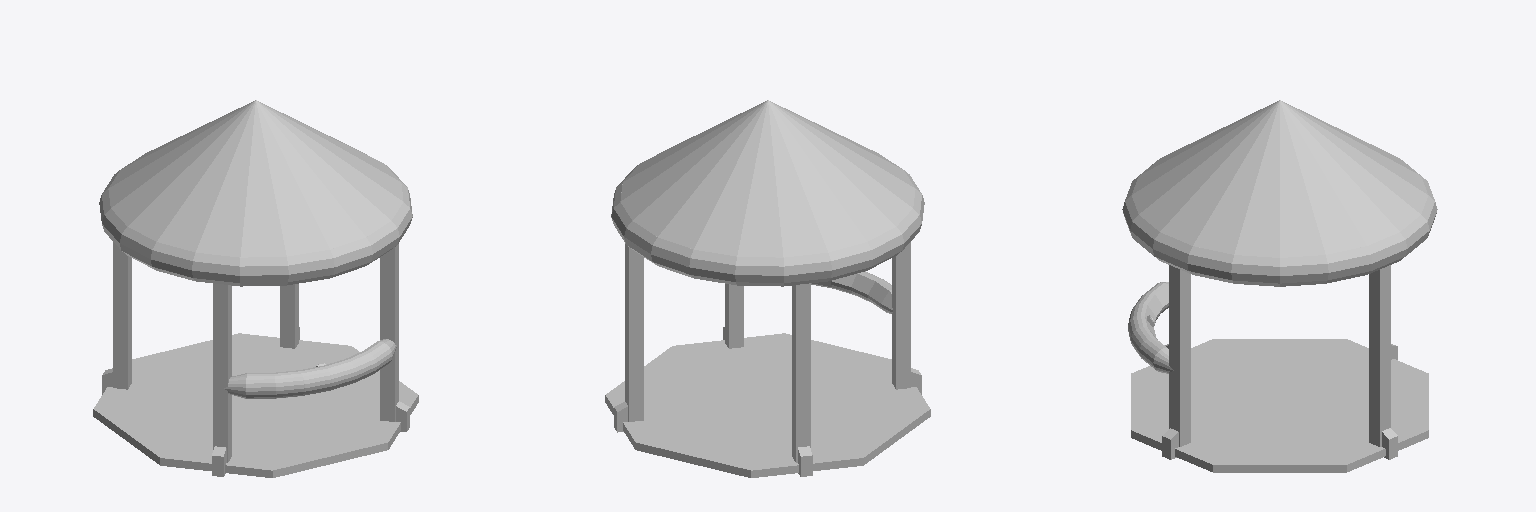
File: teleporter.obj
3 renders of one model, left to right at view 1: azimuth 30°, elevation 25°; view 2: azimuth 150°, elevation 25°; view 3: azimuth 270°, elevation 25°, orthographic.
Size of the model in its own units: 6 by 6.55 by 6.